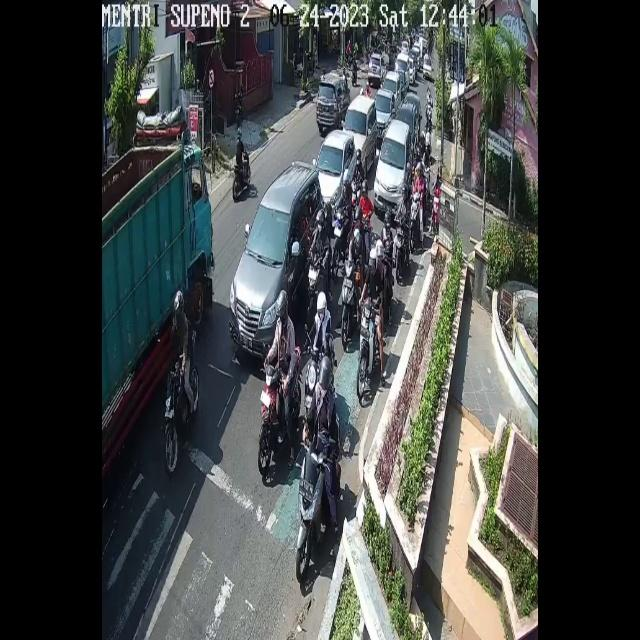bus: (294, 414, 341, 586), (257, 347, 302, 478), (165, 342, 200, 466), (302, 332, 334, 409), (356, 297, 378, 402), (338, 258, 356, 346), (306, 253, 329, 315), (232, 147, 252, 201), (332, 207, 349, 263), (394, 217, 408, 280), (410, 192, 421, 251), (432, 188, 442, 235), (350, 179, 360, 208), (422, 161, 431, 193)
car: (102, 126, 214, 504)
motorcycle: (229, 161, 327, 357), (374, 120, 412, 222), (315, 128, 357, 219), (343, 92, 379, 179), (314, 73, 351, 136), (374, 88, 394, 136), (384, 70, 402, 118), (397, 102, 418, 143), (368, 51, 387, 84)
